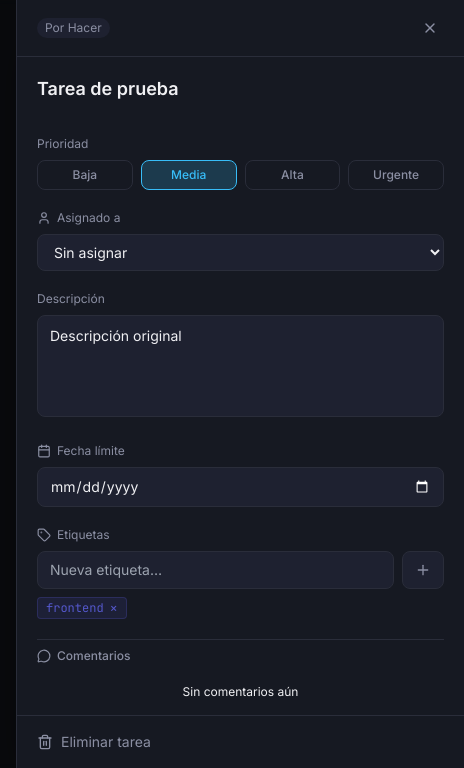
it: TaskDetailPanel — prioridad › cambia la prioridad al hacer click en un botón
Click the button "Alta" at {"x": 292, "y": 174}, box [244,160,340,190]
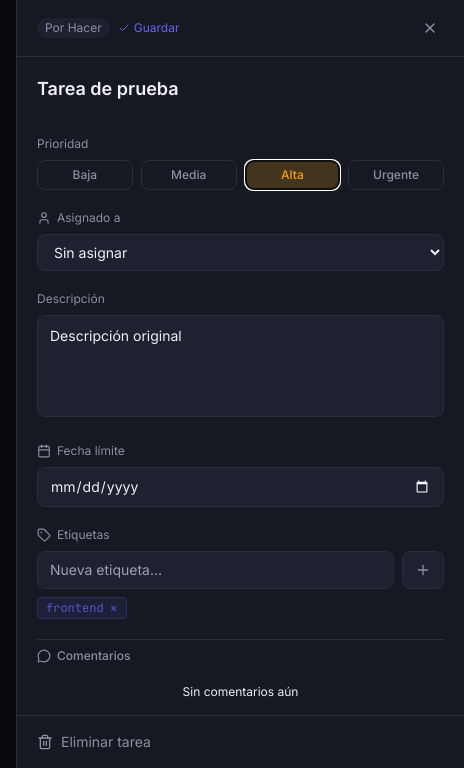
Check: the button "Guardar" is shown, box [118,20,179,36]
